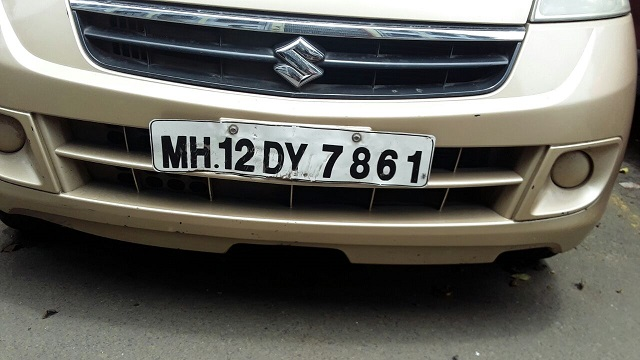licenseplate: (147, 117, 436, 192)
